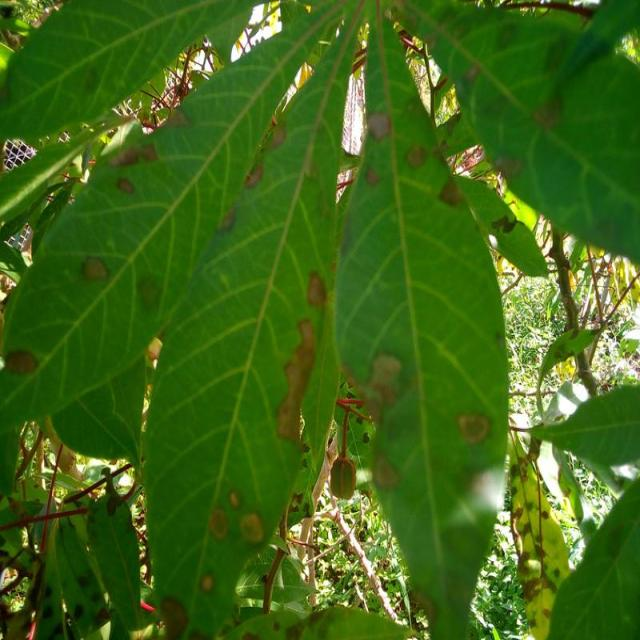cassava leaf: (0, 0, 638, 638), (0, 0, 346, 460), (333, 8, 510, 638)
